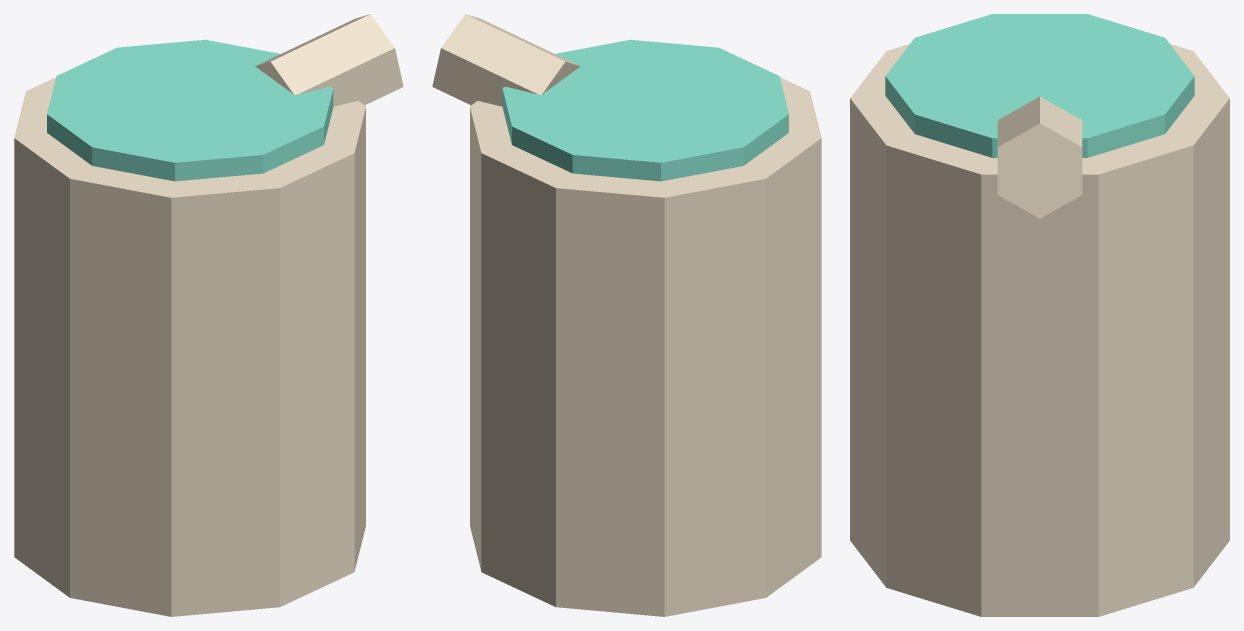
The picture shows the model from 3 angles, left to right: view 1: azimuth 30°, elevation 25°; view 2: azimuth 150°, elevation 25°; view 3: azimuth 270°, elevation 25°; orthographic projection. The views are drawn at different scales.
Parts seen in each view (by area): view 1: Beaker, Liquid, Spout; view 2: Beaker, Liquid, Spout; view 3: Beaker, Liquid, Spout.
Boxes of the visible parts, <box> form: Beaker: <box>14,77,365,616</box>; Liquid: <box>47,39,333,181</box>; Spout: <box>255,14,403,106</box>; Beaker: <box>470,77,821,616</box>; Liquid: <box>502,39,788,181</box>; Spout: <box>432,14,580,106</box>; Beaker: <box>850,44,1229,616</box>; Liquid: <box>885,14,1194,157</box>; Spout: <box>997,96,1082,218</box>.
Bounding box in the file's own units: 15.55 × 20.76 × 14.
